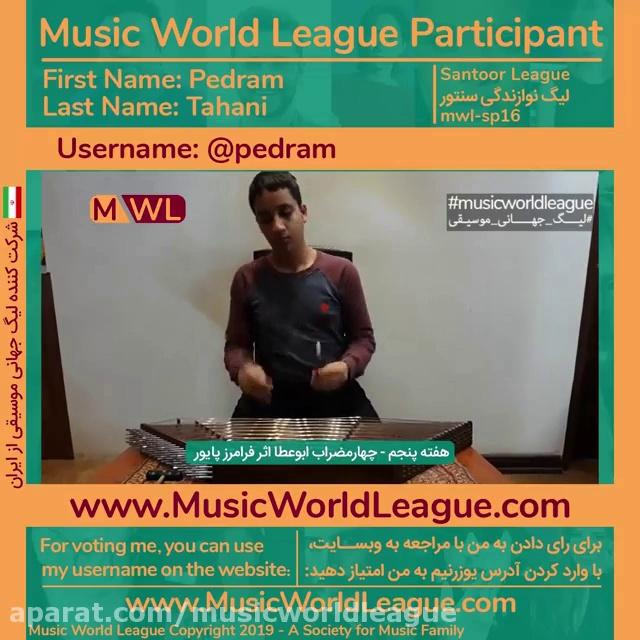Santur: (132, 412, 486, 482)
